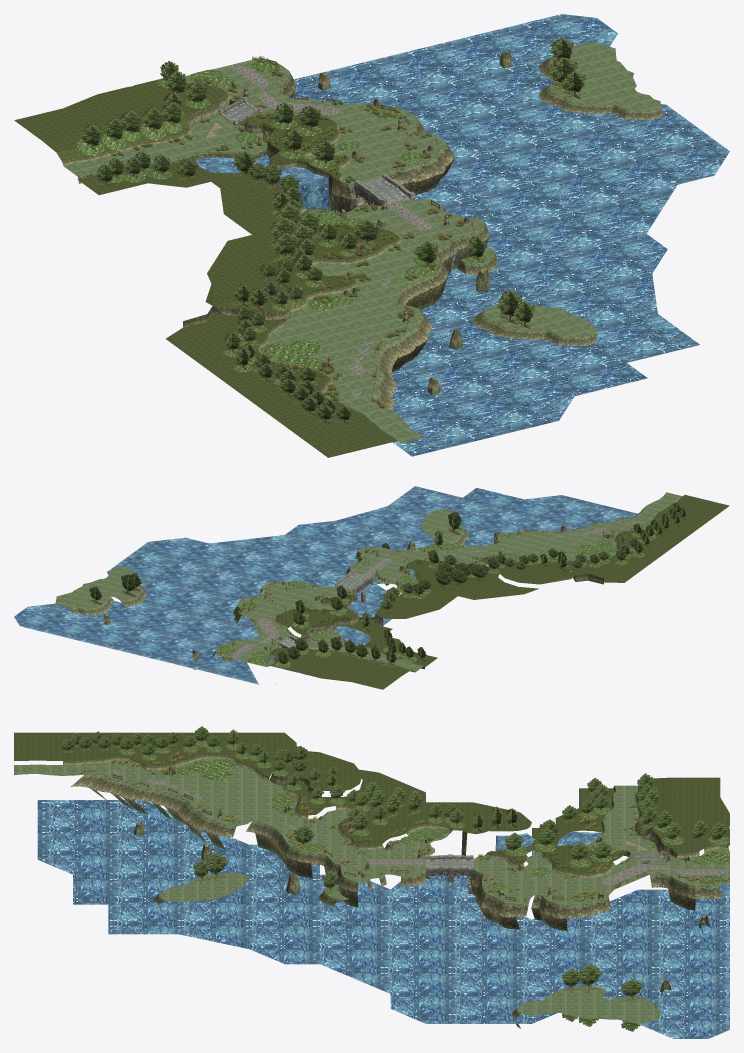
File: Ursula2.obj
The picture shows the model from 3 angles, top to bottom: view 1: azimuth 30°, elevation 25°; view 2: azimuth 150°, elevation 25°; view 3: azimuth 270°, elevation 25°; orthographic projection. The views are drawn at different scales.
Visible parts, largest first — view 1: Object.174, Object.194, Object.167, Object.198, Object.205, Object.191, Object.188, Object.120, Object.197, Object.207, Object.165, Object.208 (+80 smaller); view 2: Object.194, Object.198, Object.167, Object.205, Object.191, Object.122, Object.188, Object.174, Object.197, Object.170, Object.196, Object.207 (+60 smaller); view 3: Object.174, Object.167, Object.194, Object.198, Object.206, Object.191, Object.205, Object.188, Object.168, Object.177, Object.192, Object.208 (+85 smaller).
Boxes of the visible parts, x1,y1,x2,y2 form: Object.174: [375, 368, 521, 456]; Object.194: [519, 122, 676, 184]; Object.167: [452, 140, 603, 202]; Object.198: [593, 104, 708, 184]; Object.205: [480, 350, 558, 429]; Object.191: [573, 203, 667, 282]; Object.188: [553, 341, 647, 420]; Object.120: [265, 402, 396, 457]; Object.197: [562, 171, 677, 233]; Object.207: [489, 189, 603, 251]; Object.165: [435, 62, 544, 109]; Object.208: [590, 283, 657, 362]; Object.194: [154, 543, 229, 595]; Object.198: [107, 543, 208, 583]; Object.167: [202, 555, 273, 603]; Object.205: [483, 495, 584, 529]; Object.191: [258, 525, 359, 554]; Object.122: [476, 564, 574, 596]; Object.188: [447, 487, 561, 515]; Object.174: [545, 501, 637, 532]; Object.197: [209, 535, 283, 574]; Object.170: [147, 615, 221, 647]; Object.196: [30, 606, 98, 639]; Object.207: [257, 546, 331, 582]; Object.174: [37, 800, 177, 844]; Object.167: [391, 934, 531, 964]; Object.194: [391, 964, 531, 993]; Object.198: [391, 994, 531, 1023]; Object.206: [602, 889, 673, 934]; Object.191: [250, 934, 390, 964]; Object.205: [37, 844, 177, 874]; Object.188: [39, 860, 178, 904]; Object.168: [392, 904, 531, 934]; Object.177: [321, 904, 460, 934]; Object.192: [180, 904, 319, 934]; Object.208: [109, 904, 248, 934].
Bounding box in the file's own units: 157 × 23.35 × 170.
